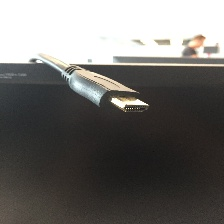hdmi_male: (62, 54, 152, 121)
